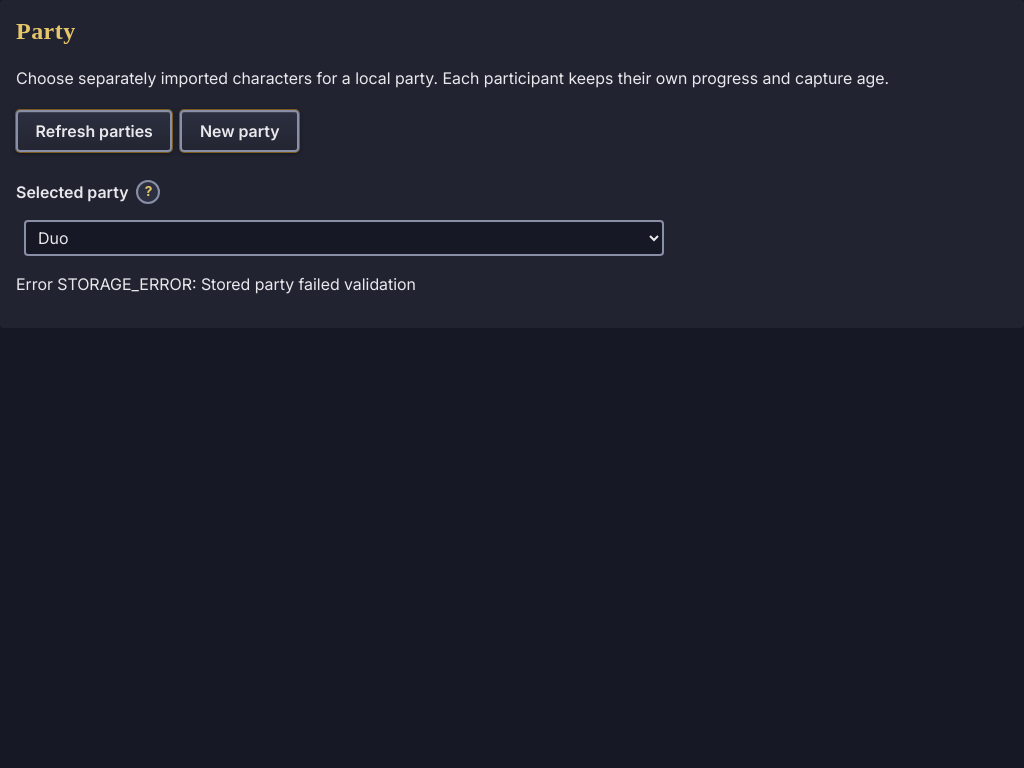
Test: recovers from a failed party read without showing stale results as current
The image size is (1024, 768).
Expected: the message shows "STORAGE_ERROR", [57,274,192,294]
Expected: the text "character-one" is not shown
Click the button "Refresh parties": {"x": 94, "y": 131} [16,110,172,152]
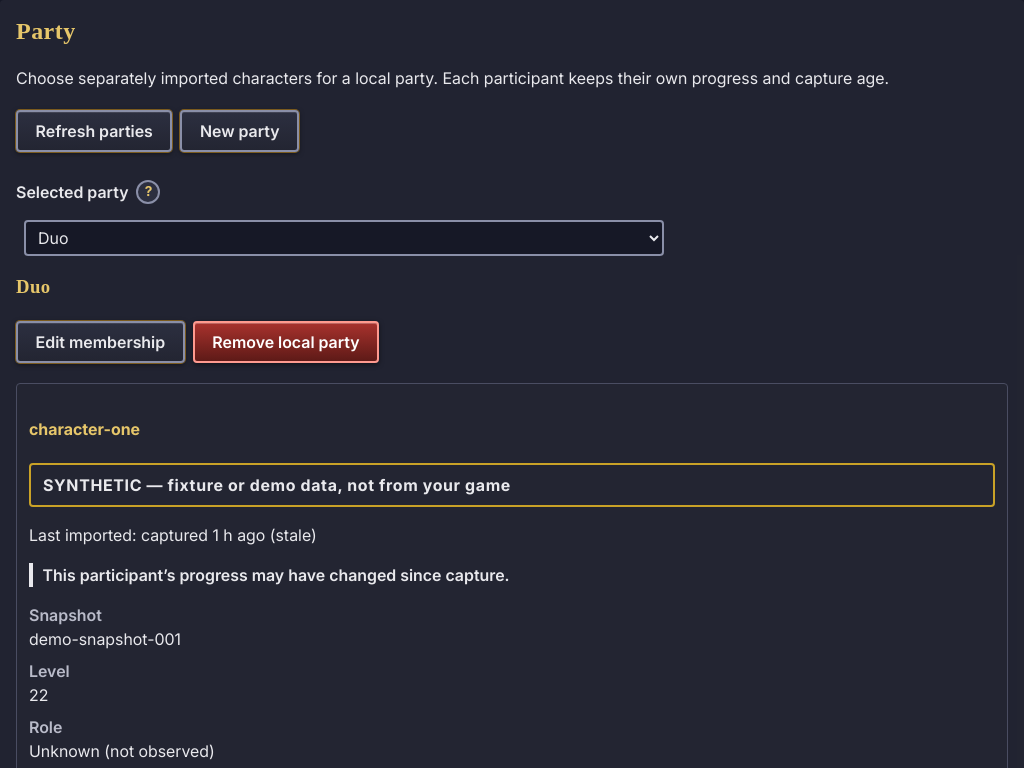
Expected: the heading "character-one" is shown, [29,419,140,439]
Expected: the message "Error STORAGE_ERROR: Stored party failed validation" is gone
